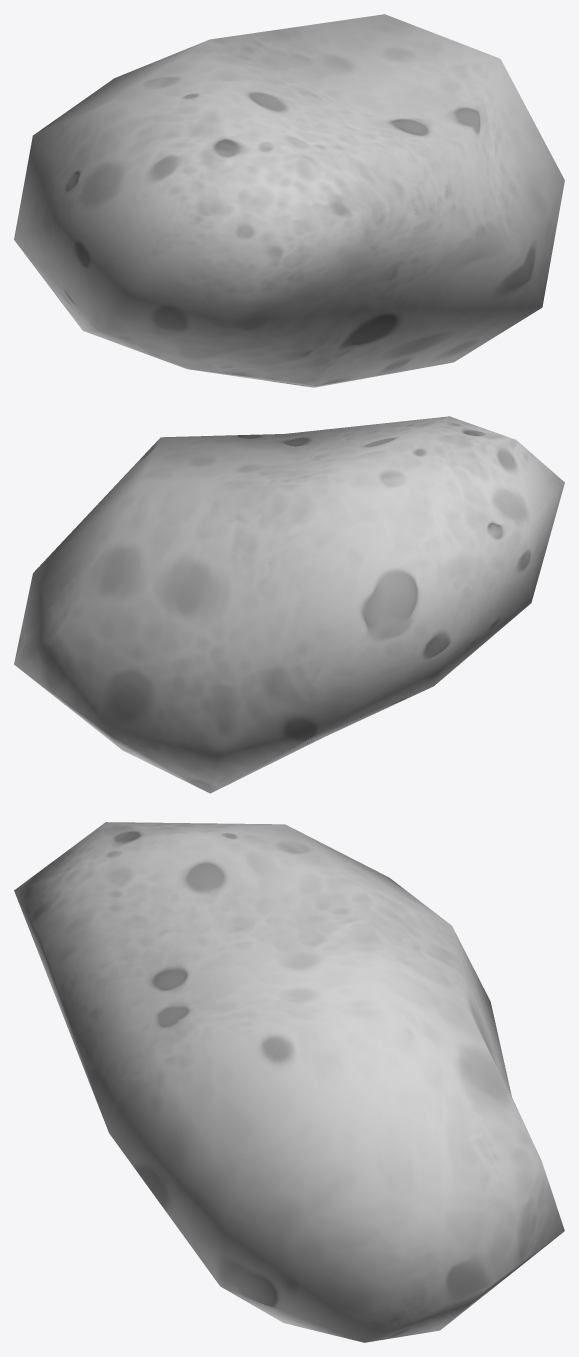
File: Astroid3rd.gltf
3 views of the same model, one above another, from view 1: azimuth 30°, elevation 25°; view 2: azimuth 150°, elevation 25°; view 3: azimuth 270°, elevation 25° (orthographic). The views are drawn at different scales.
Visible parts, largest first — view 1: Asteroid; view 2: Asteroid; view 3: Asteroid.
Boxes of the visible parts, box(x1,y1,x2,y2) form: Asteroid: box(14, 14, 564, 387); Asteroid: box(14, 416, 564, 793); Asteroid: box(14, 822, 564, 1342).
Bounding box in the file's own units: 0.3418 × 0.2403 × 0.312.
Materials: 1 (1 with a texture image).
